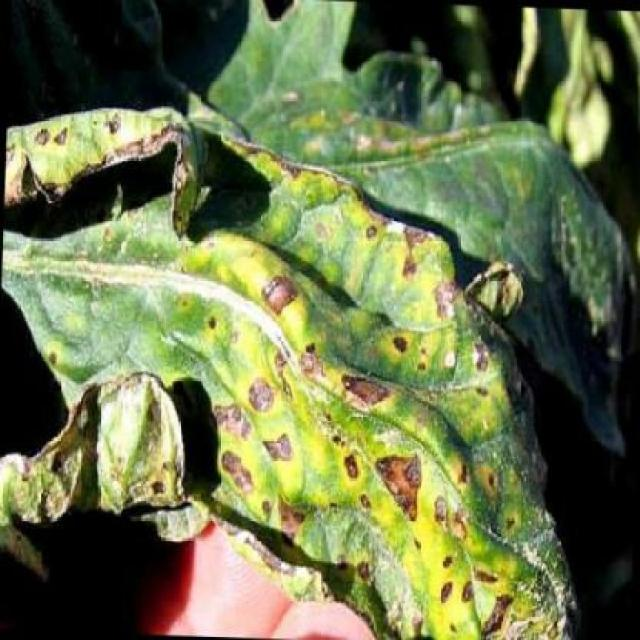Septoria leaf spot: (1, 64, 610, 640)
